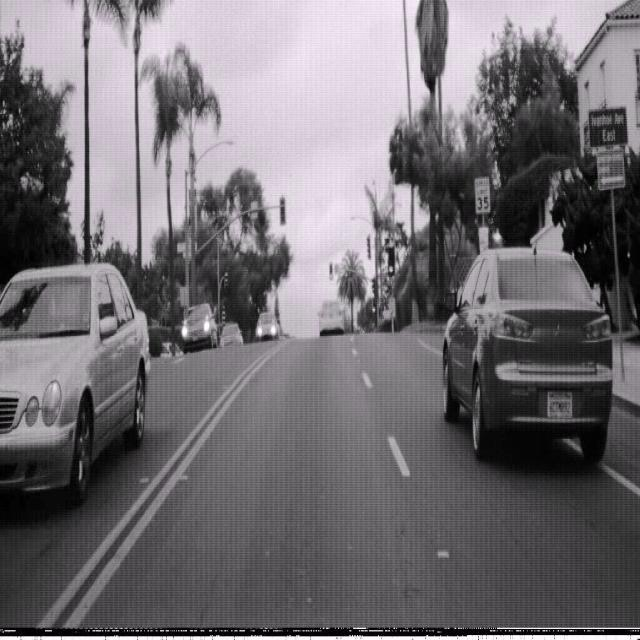speedLimit35: (474, 176, 491, 214)
